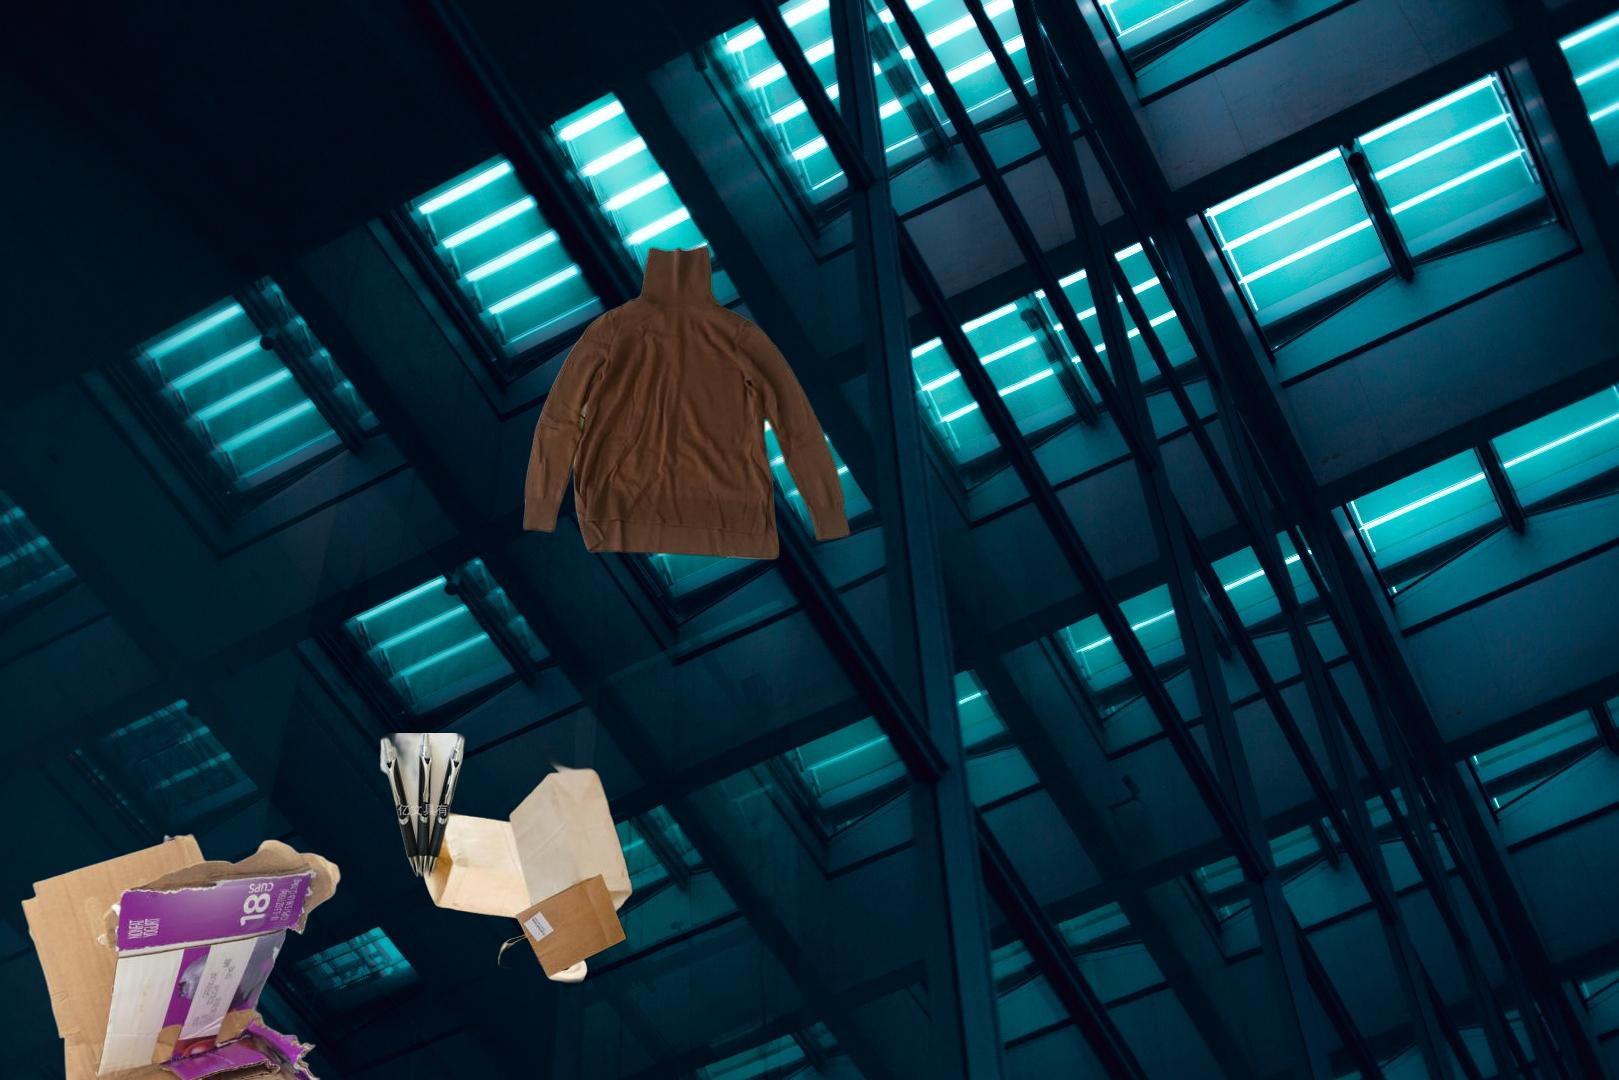clothes: (520, 242, 854, 564)
paper-bag: (420, 726, 637, 988)
penholder: (377, 733, 469, 880)
trashbox-cardboard: (16, 830, 345, 1080)
